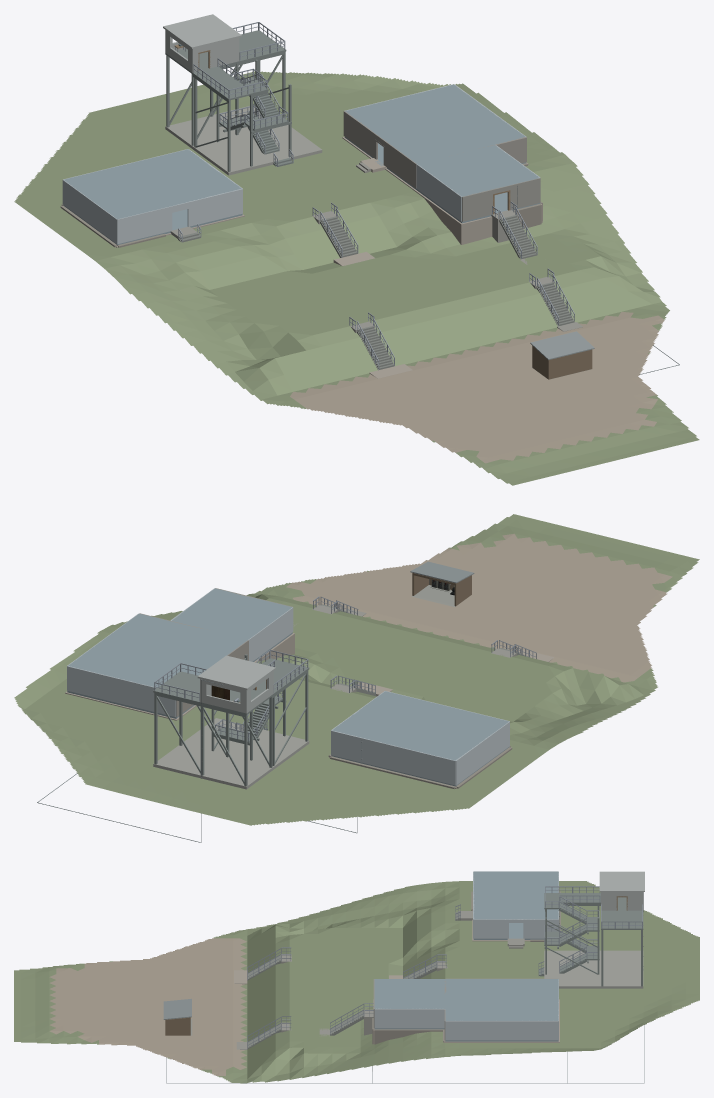
Rendered from lookout-power.glb.
The picture shows the model from 3 angles, top to bottom: view 1: azimuth 30°, elevation 25°; view 2: azimuth 150°, elevation 25°; view 3: azimuth 270°, elevation 25°; orthographic projection. The views are drawn at different scales.
Visible parts, largest first — view 1: WLD-04 saved ground, Ceiling cap ruin, Ceiling cap hut, WLD-04 restart continuous grounded tower plinth region0, Ceiling cap store, Bayed shell Wall hut S, WLD-04 restart cab closed roof region0, Wall hut W, WLD-04 restart cab and observation deck region0, Wall store W, Lookout roadhead weather roof, WLD-04 restart west level access gallery region0 (+7 smaller); view 2: WLD-04 saved ground, Ceiling cap ruin, Ceiling cap hut, WLD-04 restart continuous grounded tower plinth region0, Ceiling cap store, Wall hut N, Wall ruin N, WLD-04 restart cab closed roof region0, Wall hut W, WLD-04 restart cab and observation deck region0, Wall store W, Lookout roadhead weather roof (+2 smaller); view 3: WLD-04 saved ground, Ceiling cap ruin, Ceiling cap hut, WLD-04 restart continuous grounded tower plinth region0, Wall ruin E, Ceiling cap store, Wall store E, WLD-04 restart cab and observation deck region0, WLD-04 restart cab closed roof region0, Flat route shell Wall hut E.001, WLD-04 restart west level access gallery region0, Flat route shell Wall hut E (+4 smaller).
Part boxes in pixels (x1=…): WLD-04 saved ground: x1=14, y1=71, x2=699, y2=485; Ceiling cap ruin: x1=345, y1=84, x2=525, y2=163; Ceiling cap hut: x1=64, y1=149, x2=241, y2=219; WLD-04 restart continuous grounded tower plinth region0: x1=165, y1=105, x2=322, y2=175; Ceiling cap store: x1=417, y1=145, x2=539, y2=196; Bayed shell Wall hut S: x1=117, y1=188, x2=242, y2=243; WLD-04 restart cab closed roof region0: x1=163, y1=14, x2=241, y2=48; Wall hut W: x1=62, y1=179, x2=117, y2=243; WLD-04 restart cab and observation deck region0: x1=165, y1=30, x2=286, y2=73; Wall store W: x1=416, y1=164, x2=461, y2=221; Lookout roadhead weather roof: x1=530, y1=331, x2=594, y2=359; WLD-04 restart west level access gallery region0: x1=192, y1=66, x2=254, y2=100; WLD-04 saved ground: x1=14, y1=514, x2=699, y2=825; Ceiling cap ruin: x1=68, y1=613, x2=247, y2=687; Ceiling cap hut: x1=332, y1=691, x2=508, y2=760; WLD-04 restart continuous grounded tower plinth region0: x1=153, y1=718, x2=309, y2=789; Ceiling cap store: x1=172, y1=588, x2=292, y2=639; Wall hut N: x1=331, y1=730, x2=455, y2=785; Wall ruin N: x1=67, y1=666, x2=176, y2=717; WLD-04 restart cab closed roof region0: x1=197, y1=655, x2=275, y2=689; Wall hut W: x1=455, y1=721, x2=509, y2=785; WLD-04 restart cab and observation deck region0: x1=153, y1=671, x2=273, y2=714; Wall store W: x1=248, y1=607, x2=293, y2=661; Lookout roadhead weather roof: x1=410, y1=561, x2=474, y2=583; WLD-04 saved ground: x1=14, y1=881, x2=699, y2=1083; Ceiling cap ruin: x1=445, y1=979, x2=558, y2=1020; Ceiling cap hut: x1=473, y1=871, x2=558, y2=919; WLD-04 restart continuous grounded tower plinth region0: x1=544, y1=950, x2=643, y2=988; Wall ruin E: x1=445, y1=1021, x2=558, y2=1040; Ceiling cap store: x1=374, y1=979, x2=445, y2=1008; Wall store E: x1=374, y1=1008, x2=444, y2=1028; WLD-04 restart cab and observation deck region0: x1=601, y1=897, x2=643, y2=929; WLD-04 restart cab closed roof region0: x1=599, y1=871, x2=644, y2=891; Flat route shell Wall hut E.001: x1=473, y1=919, x2=508, y2=938; WLD-04 restart west level access gallery region0: x1=544, y1=893, x2=600, y2=903; Flat route shell Wall hut E: x1=523, y1=919, x2=558, y2=938.
Bounding box in the file's own units: 59 × 20.43 × 97.
57 materials, 34 textured.
